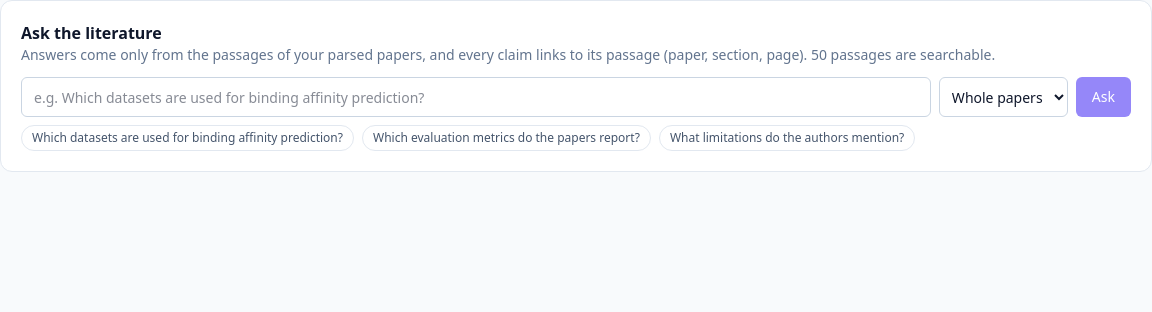
Test: AskPanel › flags answers the passages don't support
Click the button "Which evaluation metrics do the papers report?" at (506, 138), box [362,125,651,151]
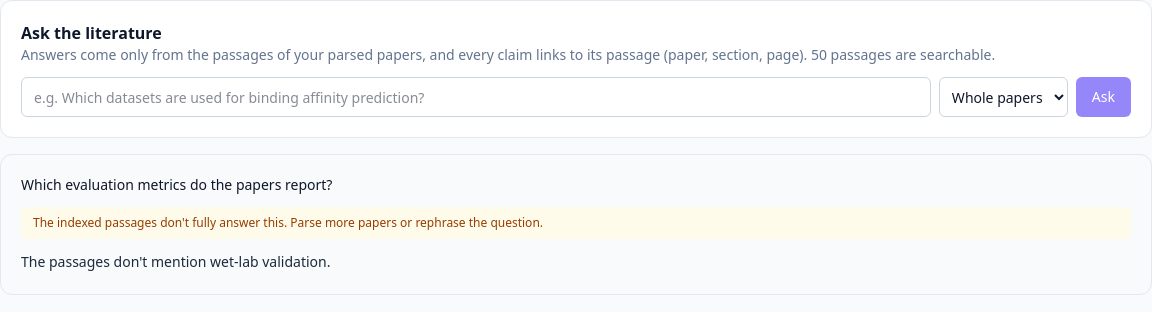
Now the text "don't fully answer this" is shown, box [33,214,543,231]
